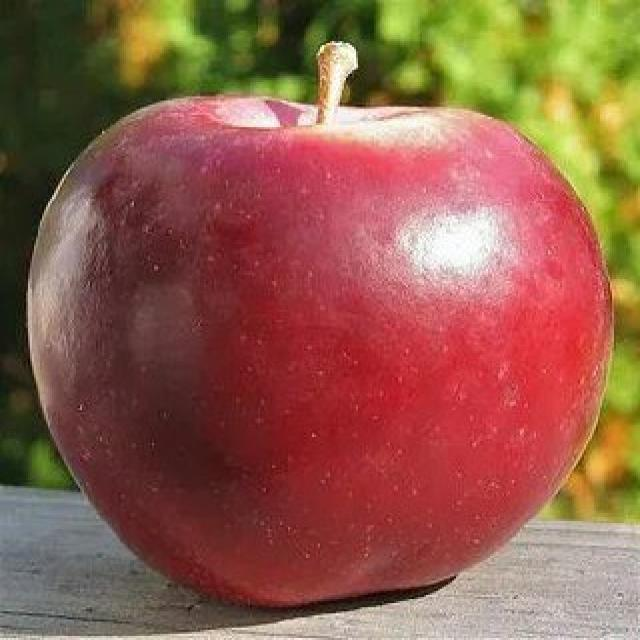Fresh Apple: (66, 101, 598, 640)
